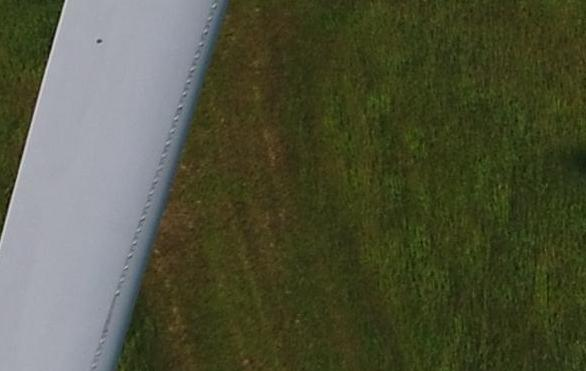damage: (96, 38, 102, 45)
